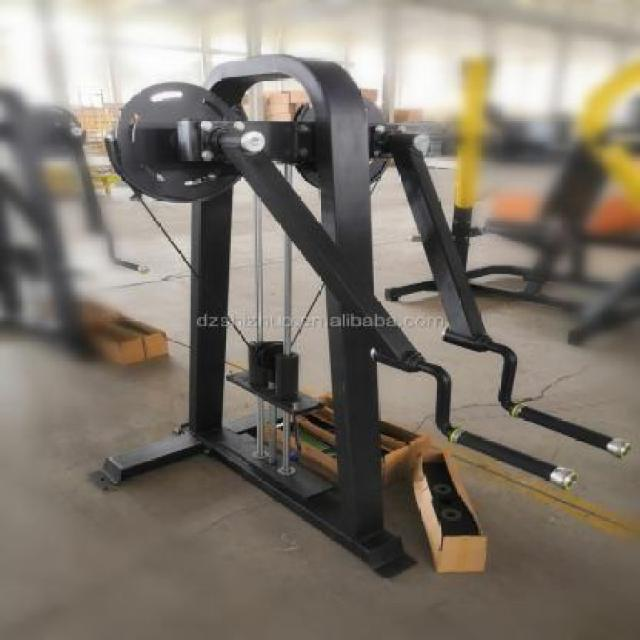lateral raises machine: (111, 54, 632, 491)
